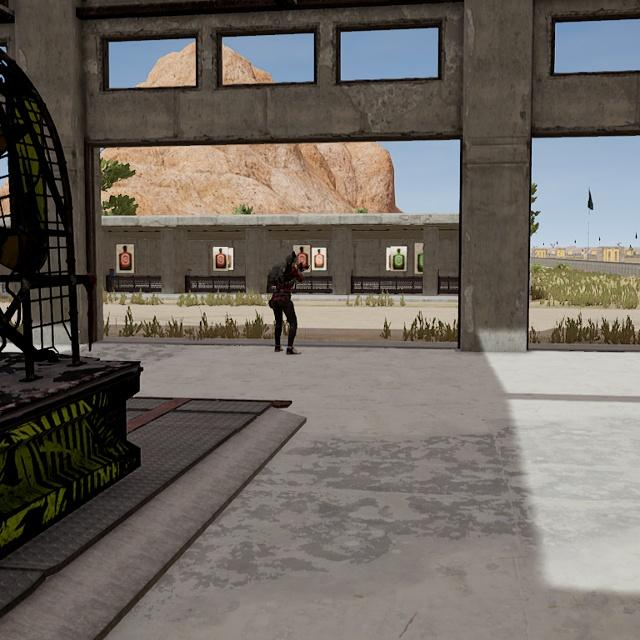head: (264, 251, 304, 357), (284, 252, 301, 270)
